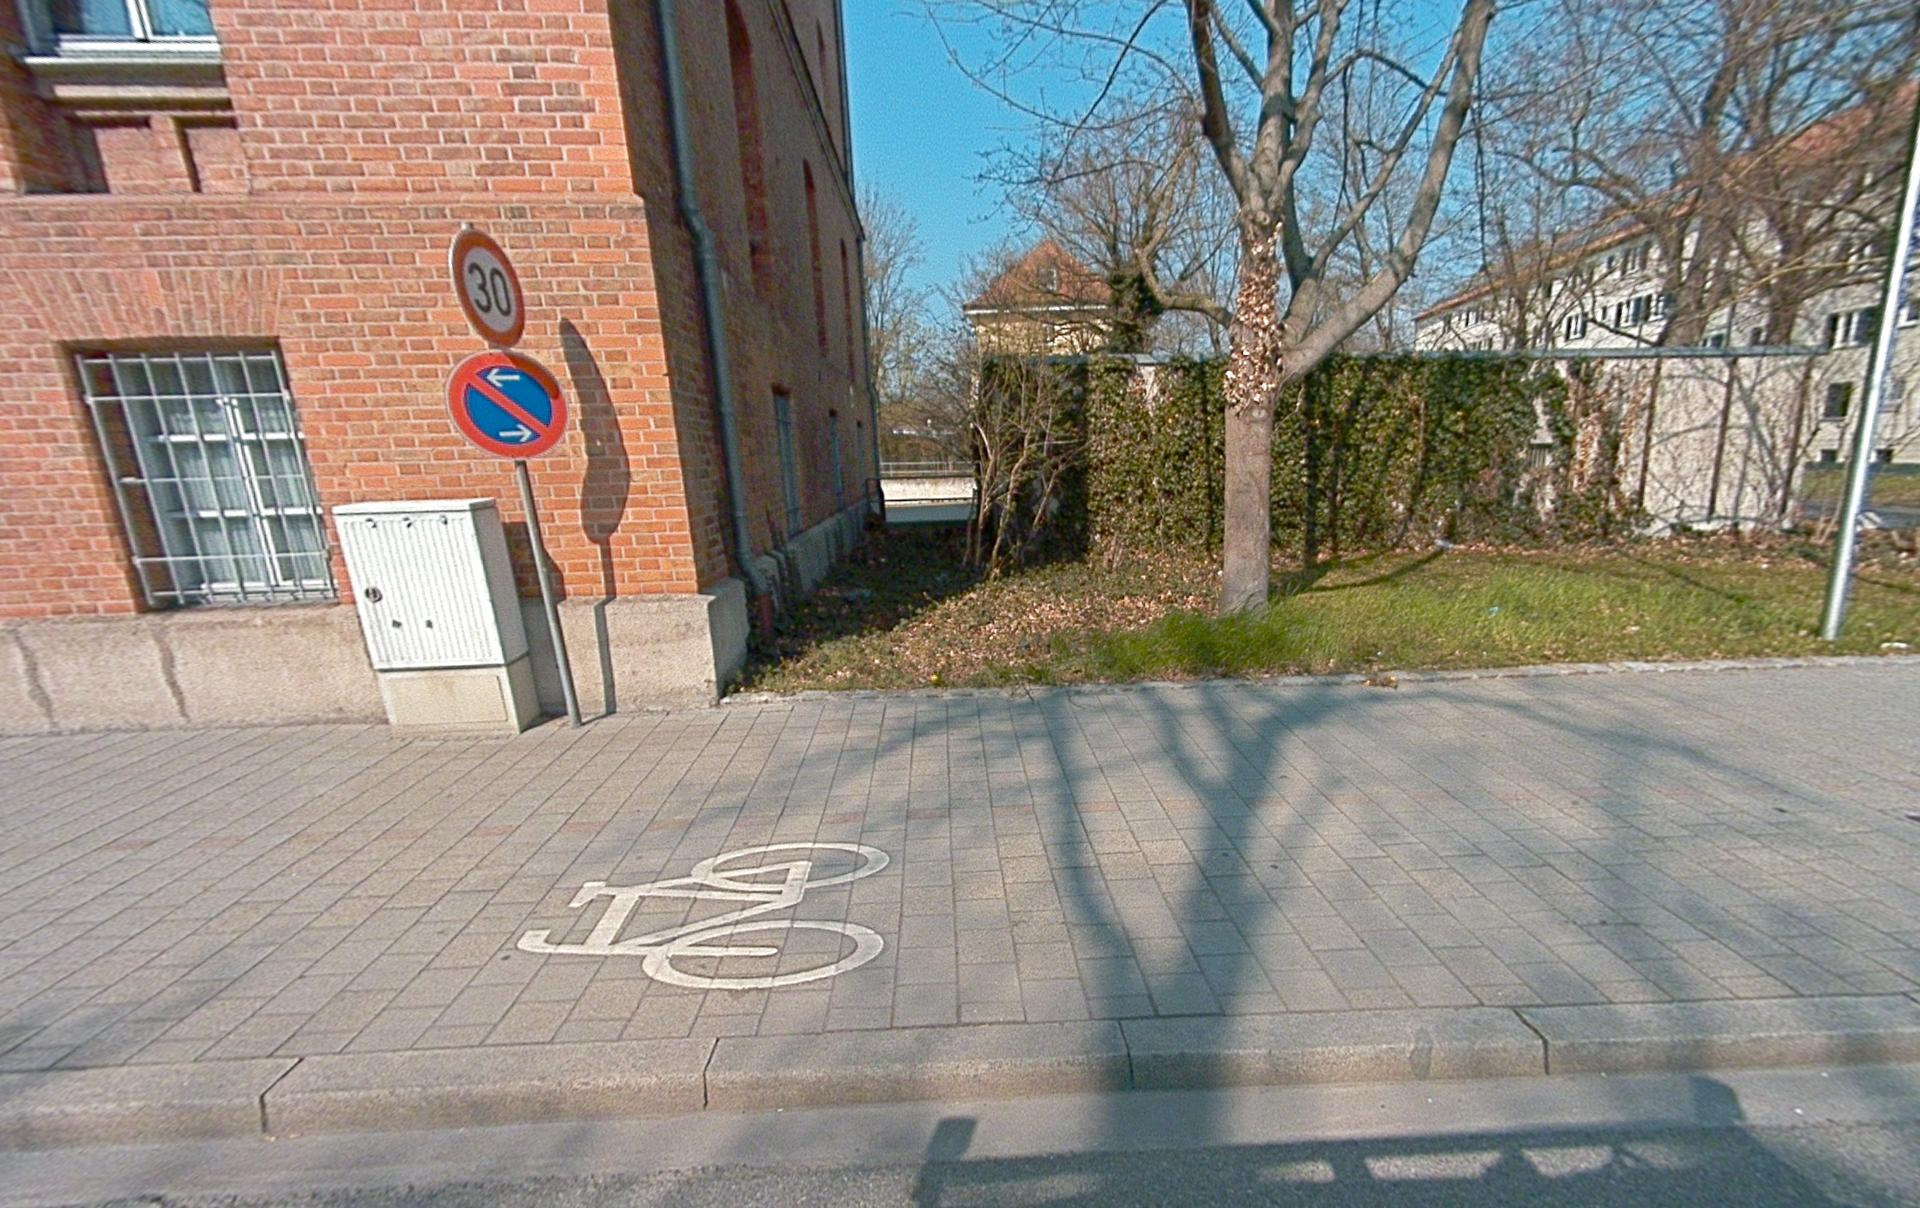traffic sign: (445, 349, 569, 459), (448, 228, 526, 347)
